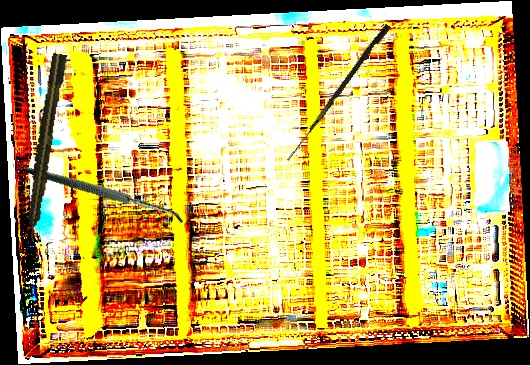Handpiece: (21, 52, 69, 244)
Hook Surgical: (21, 102, 197, 276), (287, 22, 391, 165)
